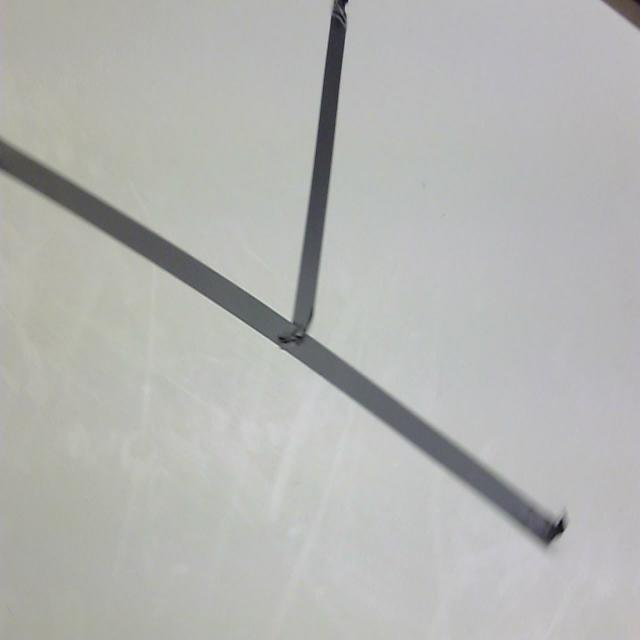tape: (0, 0, 585, 571)
